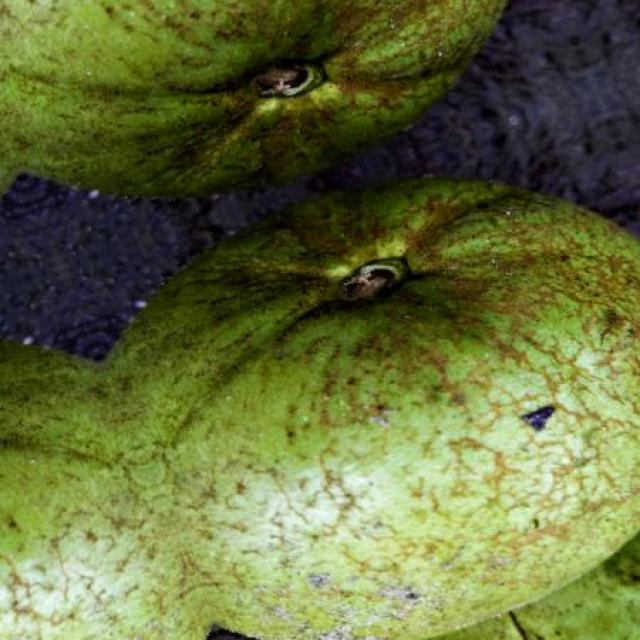Scab: (0, 179, 640, 640), (0, 0, 505, 196)
